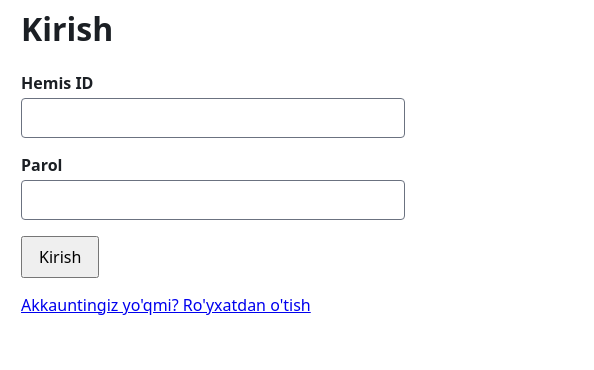
Test: /login (AUTH-02) › lockout (429) — alohida xabar
Type "1" into the field labelled "Hemis ID" at (213, 118), box left=21, top=98, right=405, bottom=138
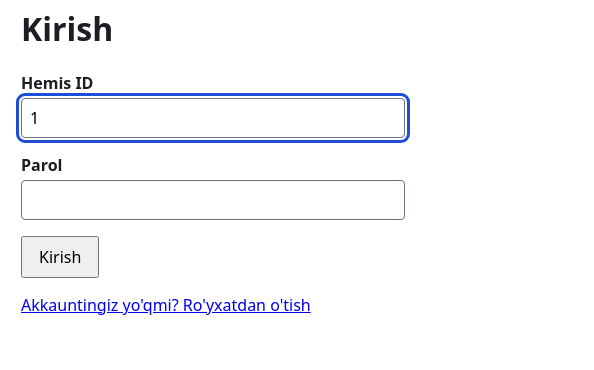
Type "x" into the password field labelled "Parol" at (213, 200), box left=21, top=180, right=405, bottom=220
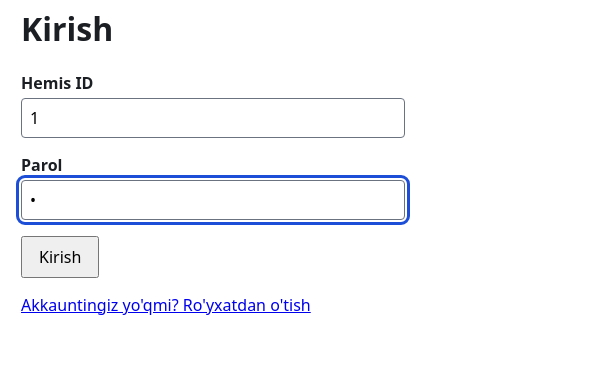
Click the button "Kirish" at (60, 257), box left=21, top=236, right=99, bottom=278
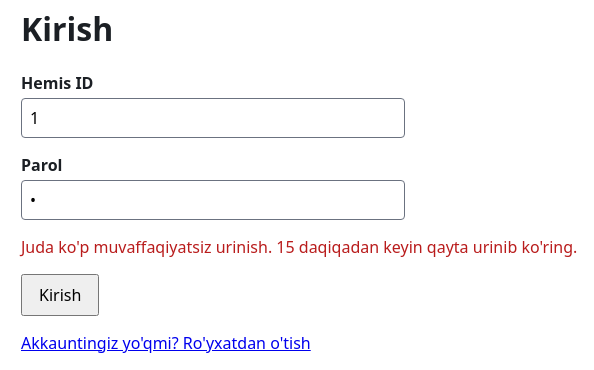
Expected: the message reads "Juda ko'p muvaffaqiyatsiz urinish. 15 daqiqadan keyin qayta urinib ko'ring.", left=21, top=236, right=577, bottom=258
